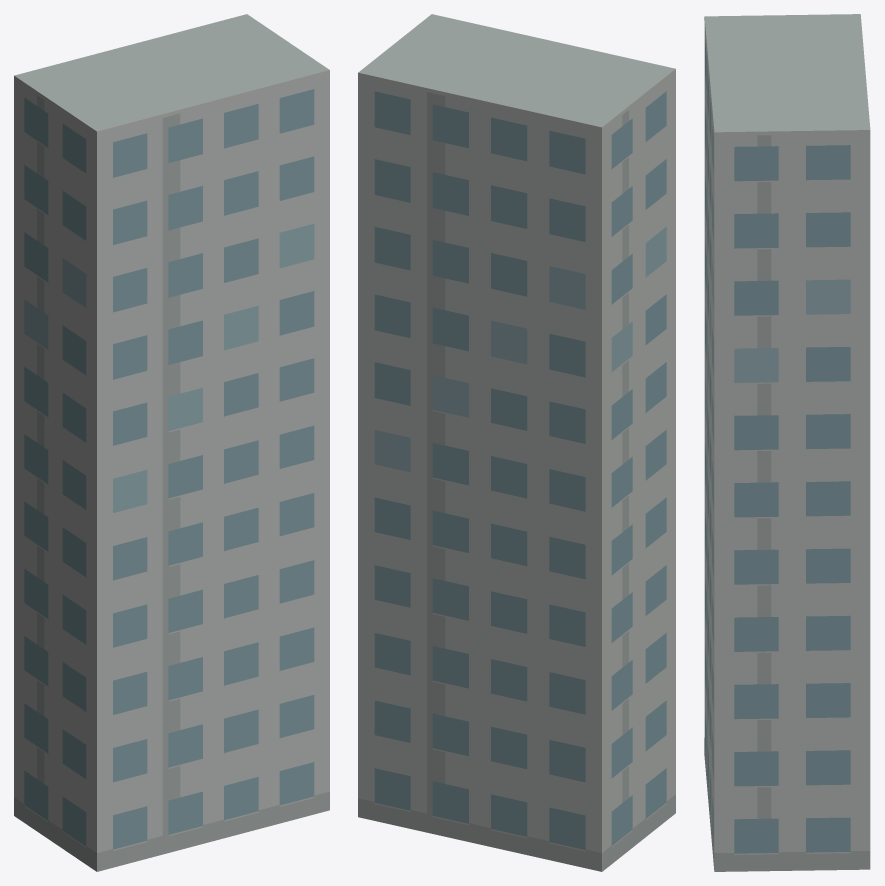
File: residential-a3542069-a0c1-456a-af2b-556f7c109feb.glb
3 views of the same model, side by side, from view 1: azimuth 30°, elevation 25°; view 2: azimuth 150°, elevation 25°; view 3: azimuth 270°, elevation 25° (orthographic).
Visible parts, largest first — view 1: residential-a3542069-a0c1-456a-af2b-556f7c109feb.tmp; view 2: residential-a3542069-a0c1-456a-af2b-556f7c109feb.tmp; view 3: residential-a3542069-a0c1-456a-af2b-556f7c109feb.tmp.
Part boxes in pixels (<box>): residential-a3542069-a0c1-456a-af2b-556f7c109feb.tmp: <box>14,14,329,871</box>; residential-a3542069-a0c1-456a-af2b-556f7c109feb.tmp: <box>358,14,675,871</box>; residential-a3542069-a0c1-456a-af2b-556f7c109feb.tmp: <box>704,14,870,871</box>.
Size of the model in its own units: 16.13 by 47 by 9.56.
